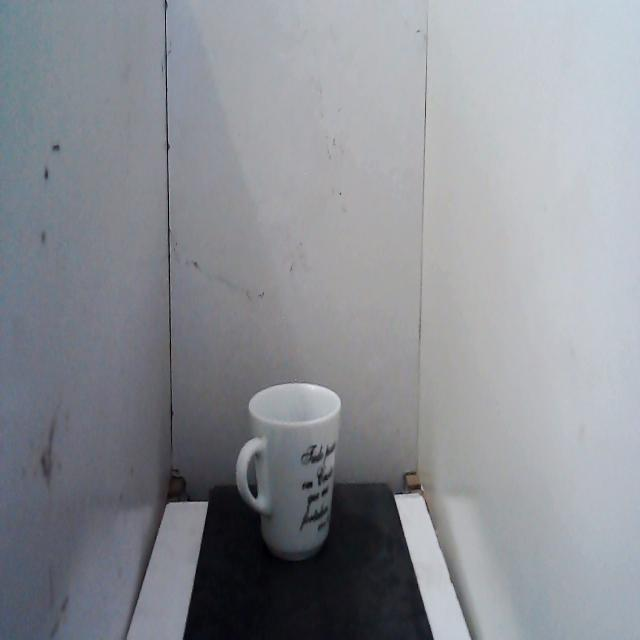vidro: (232, 376, 346, 573)
